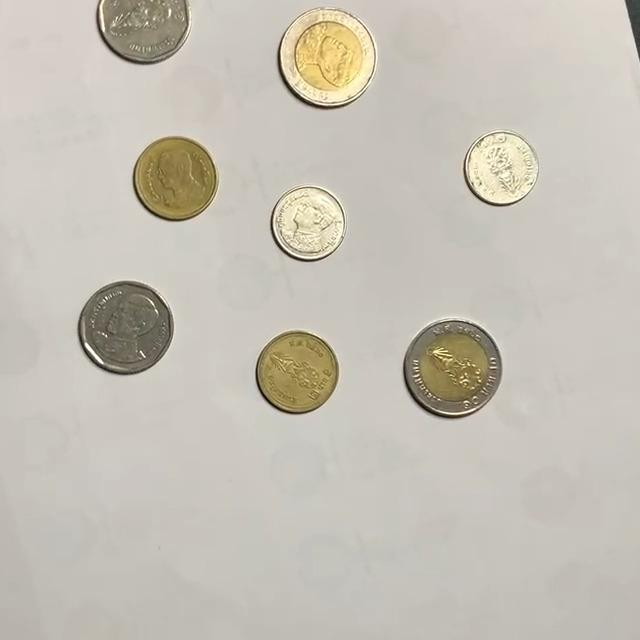1-baht: (463, 129, 541, 205), (270, 185, 348, 261)
10-baht: (278, 6, 379, 106), (403, 319, 504, 418)
2-baht: (134, 135, 220, 220), (256, 330, 340, 414)
5-baht: (78, 281, 175, 375), (96, 0, 194, 64)
